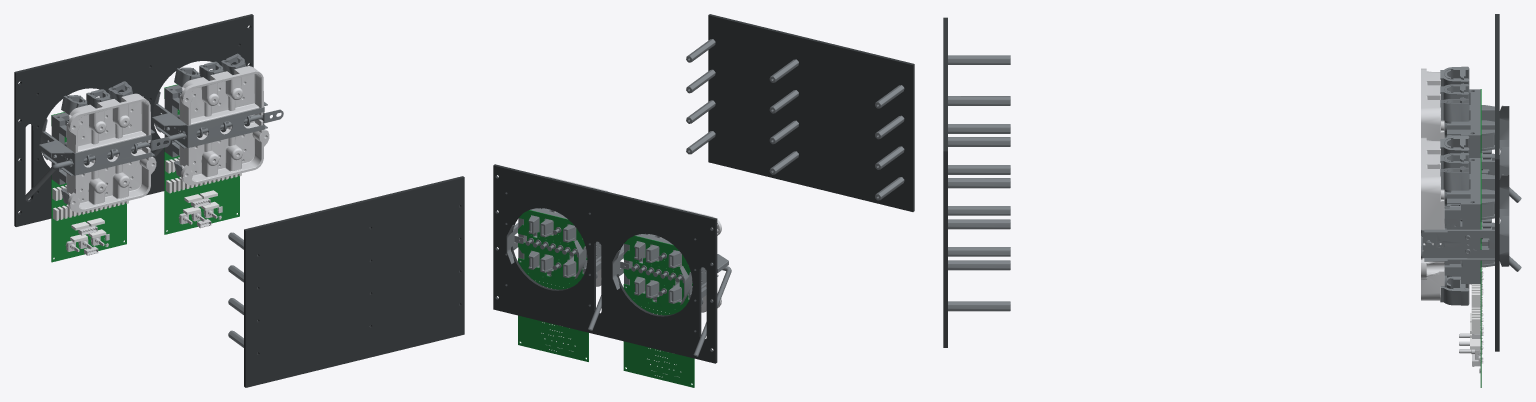
Rendered from socket-plate-exploded.glb.
3 views of the same model, side by side, from view 1: azimuth 30°, elevation 25°; view 2: azimuth 150°, elevation 25°; view 3: azimuth 270°, elevation 25° (orthographic). The views are drawn at different scales.
Bounding box in the file's own units: 0.4836 × 0.376 × 0.8121.
